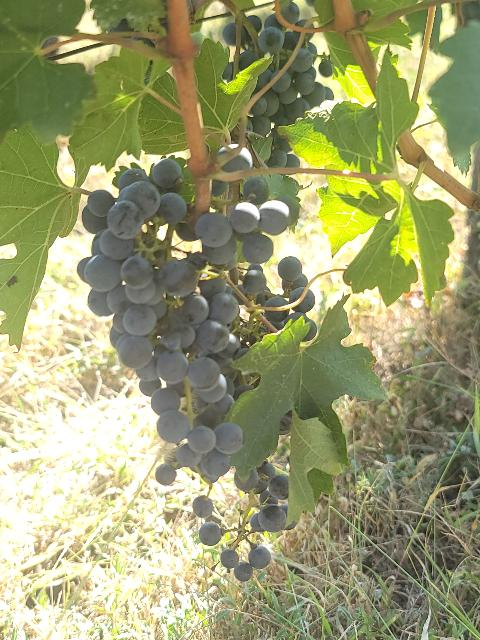grapes: (78, 150, 289, 485), (221, 15, 334, 166), (199, 461, 296, 581)
